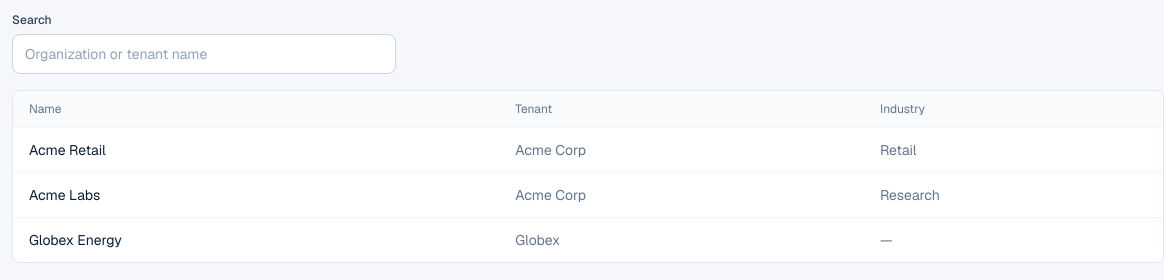
OrganizationsTable › filters by tenant name
Type "globex" into the search field labelled "Search".
click(204, 54); type("globex")  # box [13,35,395,73]
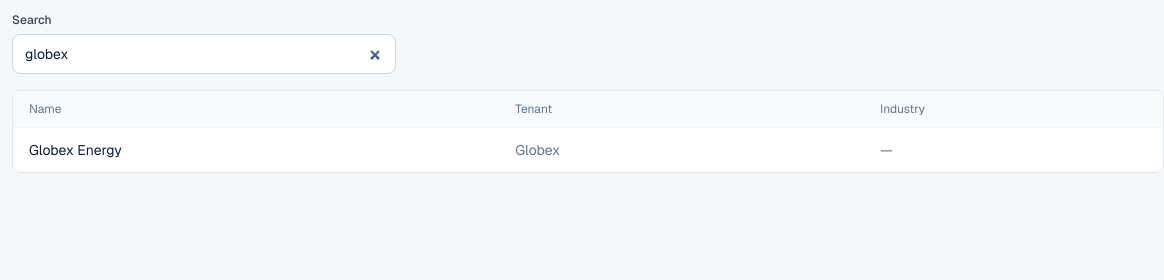
Expected: the link "Globex Energy" is shown, [29,141,122,159]
Now the link "Acme Retail" is gone
